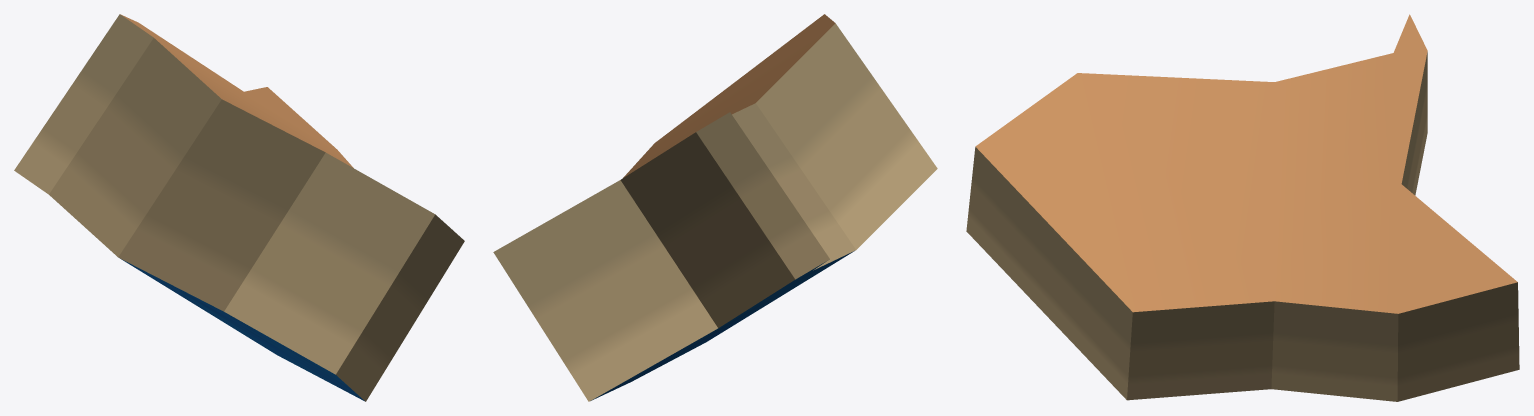
File: 0641_Kenya.glb
3 views of the same model, side by side, from view 1: azimuth 30°, elevation 25°; view 2: azimuth 150°, elevation 25°; view 3: azimuth 270°, elevation 25° (orthographic). The views are drawn at different scales.
Parts seen in each view (by area): view 1: part_0; view 2: part_0; view 3: part_0.
Part boxes in pixels (x1,y1,x2,y2): part_0: [14, 14, 464, 401]; part_0: [493, 14, 937, 401]; part_0: [966, 14, 1519, 401].
Size of the model in its own units: 0.3892 by 0.3709 by 0.5605.
1 material, 1 textured.
